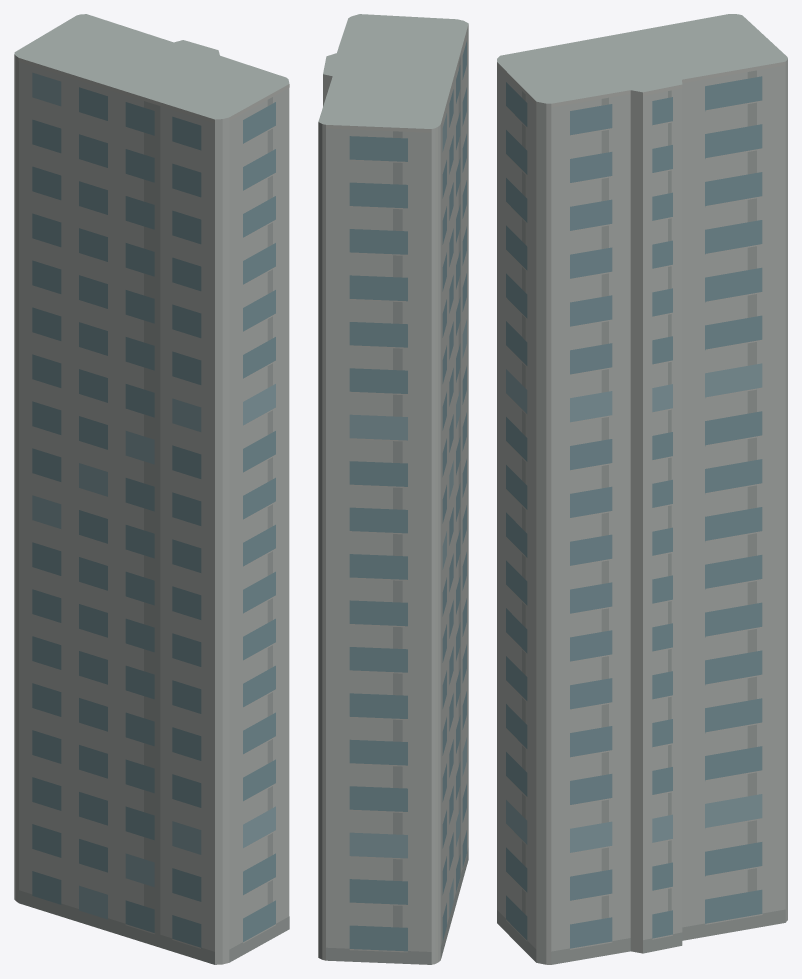
The model's file is survey-upis-32961162.glb.
3 views of the same model, side by side, from view 1: azimuth 30°, elevation 25°; view 2: azimuth 150°, elevation 25°; view 3: azimuth 270°, elevation 25° (orthographic). The views are drawn at different scales.
Visible parts, largest first — view 1: survey-upis-32961162.tmp; view 2: survey-upis-32961162.tmp; view 3: survey-upis-32961162.tmp.
Part boxes in pixels (x1,y1,x2,y2): survey-upis-32961162.tmp: [14, 14, 289, 964]; survey-upis-32961162.tmp: [318, 14, 468, 964]; survey-upis-32961162.tmp: [497, 14, 787, 964].
Size of the model in its own units: 12.28 by 54.9 by 16.8.
